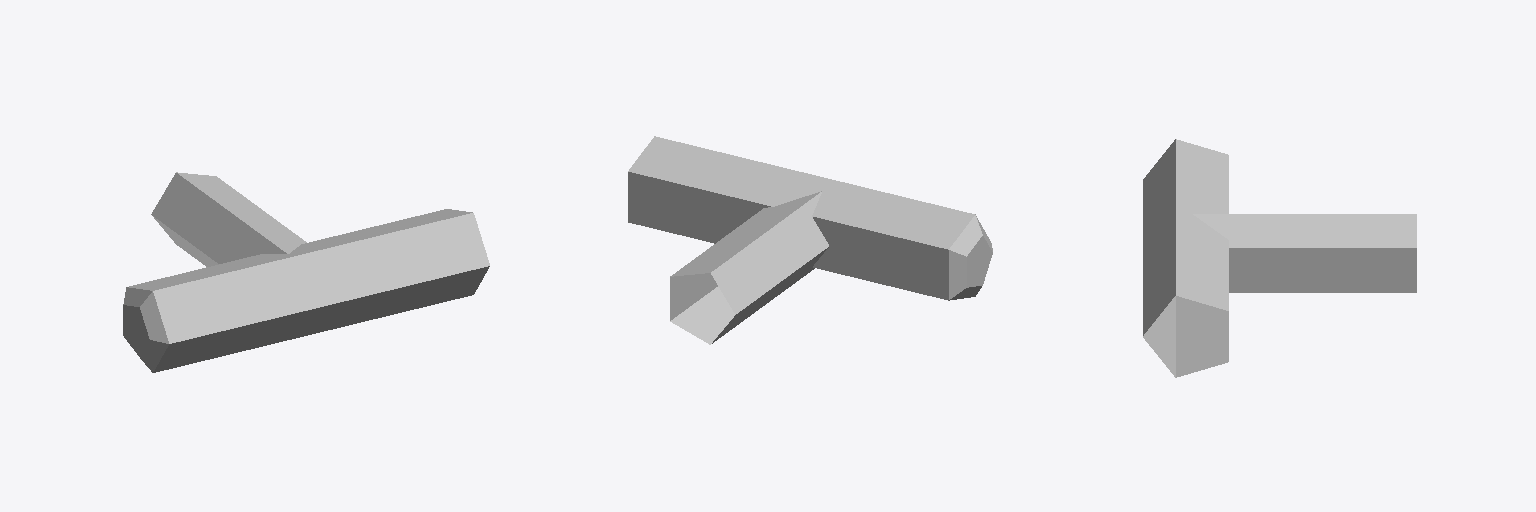
File: original-31.obj
The picture shows the model from 3 angles: view 1: azimuth 30°, elevation 25°; view 2: azimuth 150°, elevation 25°; view 3: azimuth 270°, elevation 25°; orthographic projection.
Visible parts, largest first — view 1: BP1a_1_1/BP1a_1/mesh21/mesh21-geometry#mesh21-geometry; view 2: BP1a_1_1/BP1a_1/mesh21/mesh21-geometry#mesh21-geometry; view 3: BP1a_1_1/BP1a_1/mesh21/mesh21-geometry#mesh21-geometry.
Part boxes in pixels (x1,y1,x2,y2): BP1a_1_1/BP1a_1/mesh21/mesh21-geometry#mesh21-geometry: (123,172,489,372); BP1a_1_1/BP1a_1/mesh21/mesh21-geometry#mesh21-geometry: (628,136,992,344); BP1a_1_1/BP1a_1/mesh21/mesh21-geometry#mesh21-geometry: (1143,139,1416,377).
Size of the model in its own units: 0.0712 by 0.0169 by 0.0512.